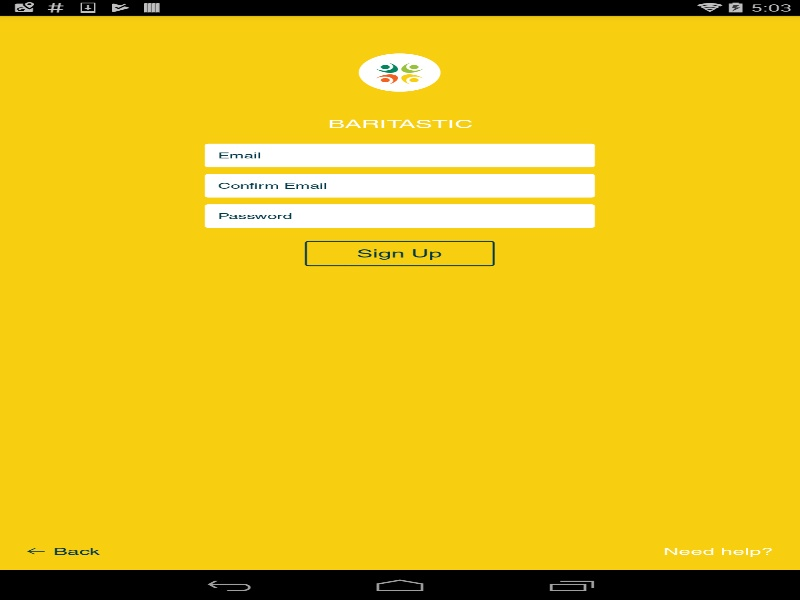Input: (204, 143, 595, 167), (204, 173, 595, 197), (204, 204, 595, 228)
